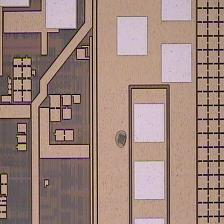PIQ PARTICLE: (112, 130, 132, 150)
